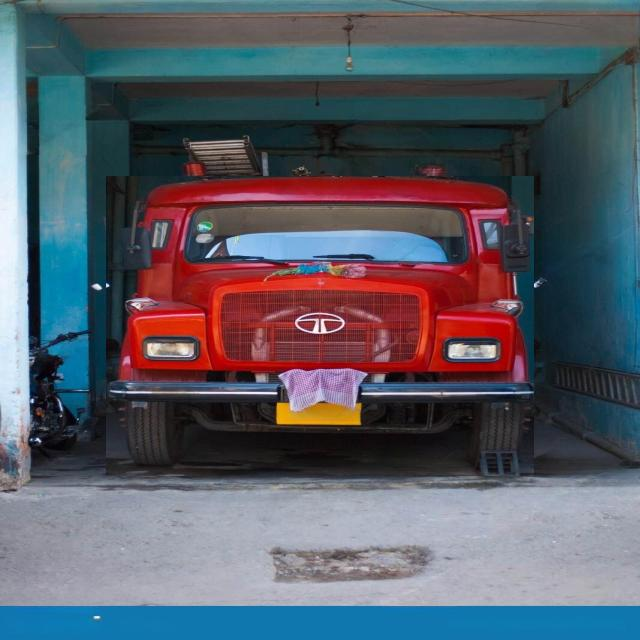emergency: (107, 176, 534, 476)
